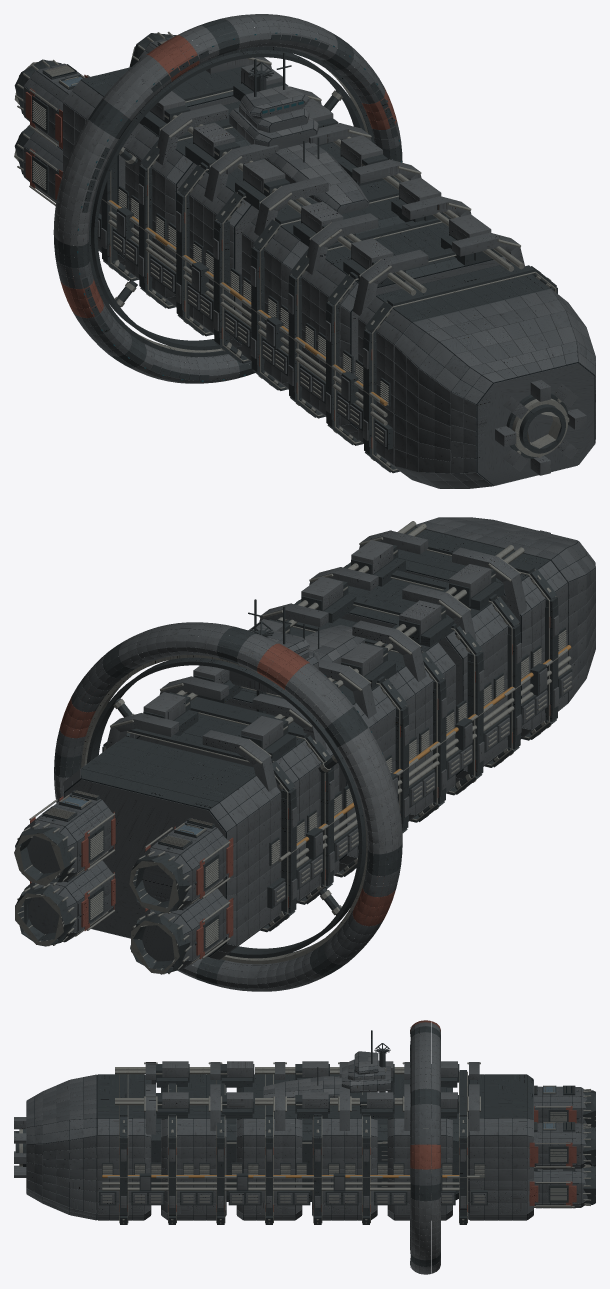
File: model-reduced.glb
3 views of the same model, one above another, from view 1: azimuth 30°, elevation 25°; view 2: azimuth 150°, elevation 25°; view 3: azimuth 270°, elevation 25° (orthographic). The views are drawn at different scales.
Parts seen in each view (by area): view 1: armour-1, dark-structure, armour-0, machined-alloy, armour-2, rotor:dark-structure, rotor:armour-1, rotor:armour-3, rotor:armour-0, rotor:armour-2, rotor:salvage-red-1, armour-3 (+4 smaller); view 2: armour-1, dark-structure, machined-alloy, armour-0, armour-2, rotor:armour-1, rotor:dark-structure, rotor:armour-3, rotor:armour-0, rotor:armour-2, rotor:salvage-red-1, rotor:machined-alloy (+3 smaller); view 3: armour-1, dark-structure, machined-alloy, armour-0, armour-2, rotor:armour-3, citadel-section, rotor:armour-0, rotor:armour-1, rotor:dark-structure, salvage-red-2, armour-3 (+5 smaller).
Part boxes in pixels (x1,y1,x2,y2): armour-1: [63, 57, 595, 488]; dark-structure: [14, 33, 567, 473]; armour-0: [23, 37, 595, 488]; machined-alloy: [14, 31, 569, 471]; armour-2: [101, 62, 491, 440]; rotor:dark-structure: [53, 19, 402, 380]; rotor:armour-1: [119, 14, 337, 383]; rotor:armour-3: [53, 119, 396, 246]; rotor:armour-0: [55, 44, 401, 356]; rotor:armour-2: [102, 25, 248, 363]; rotor:salvage-red-1: [60, 35, 396, 318]; armour-3: [229, 85, 356, 205]; armour-1: [63, 517, 595, 959]; dark-structure: [15, 527, 572, 974]; machined-alloy: [14, 521, 571, 974]; armour-0: [24, 517, 595, 970]; armour-2: [143, 540, 558, 899]; rotor:armour-1: [119, 622, 334, 991]; rotor:dark-structure: [54, 627, 402, 986]; rotor:armour-3: [54, 727, 402, 854]; rotor:armour-0: [55, 653, 401, 964]; rotor:armour-2: [177, 634, 353, 979]; rotor:salvage-red-1: [59, 643, 395, 926]; rotor:machined-alloy: [81, 655, 373, 964]; armour-1: [14, 1052, 533, 1220]; dark-structure: [15, 1030, 595, 1224]; machined-alloy: [19, 1062, 595, 1223]; armour-0: [26, 1051, 587, 1211]; armour-2: [121, 1051, 466, 1207]; rotor:armour-3: [410, 1195, 440, 1260]; citadel-section: [97, 1075, 532, 1219]; rotor:armour-0: [410, 1104, 440, 1185]; rotor:armour-1: [410, 1032, 440, 1253]; rotor:dark-structure: [410, 1026, 440, 1267]; salvage-red-2: [529, 1106, 576, 1205]; armour-3: [264, 1057, 379, 1097].
Bounding box in the file's own units: 189 × 189 × 432.
14 materials, 12 textured.
